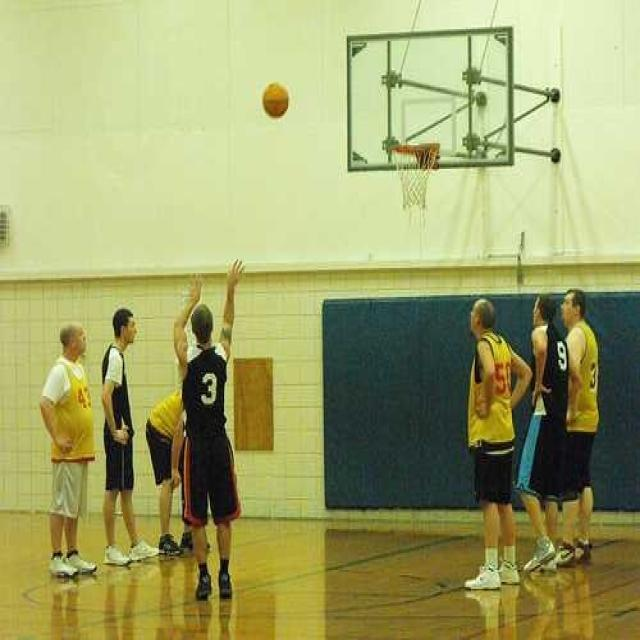Ball: (262, 84, 290, 118)
